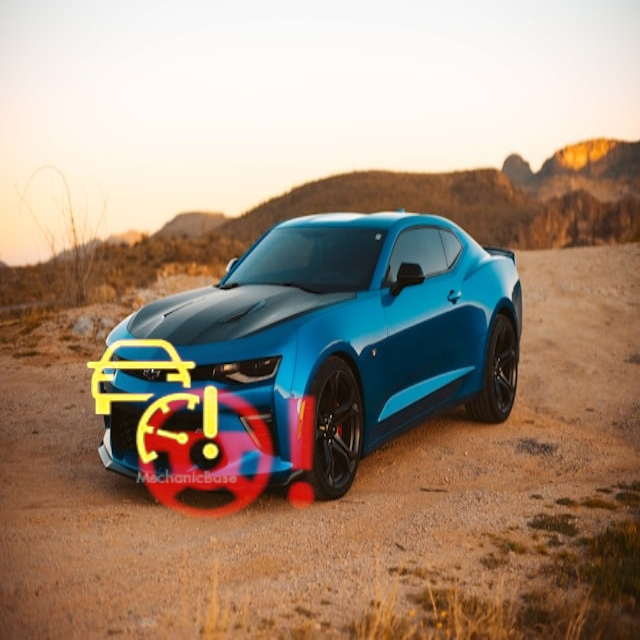symbol: (122, 351, 333, 562), (64, 314, 240, 490), (54, 78, 200, 224)
